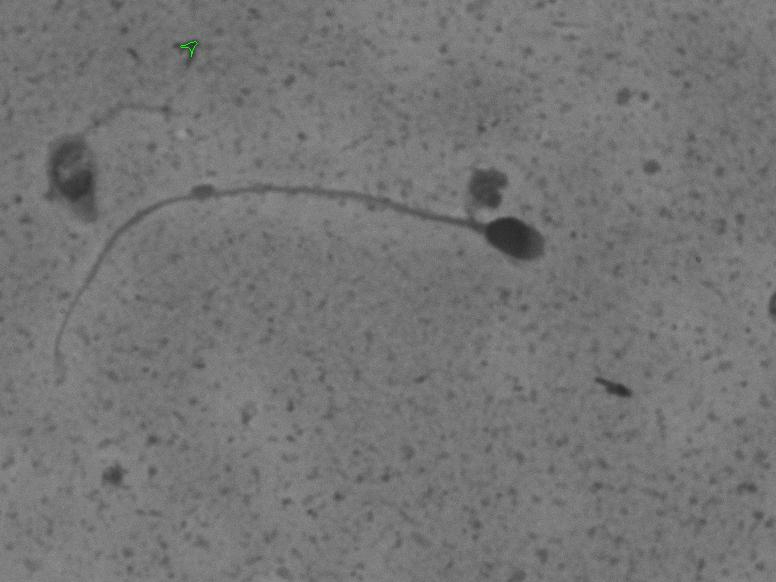Normal: (36, 166, 561, 393)
